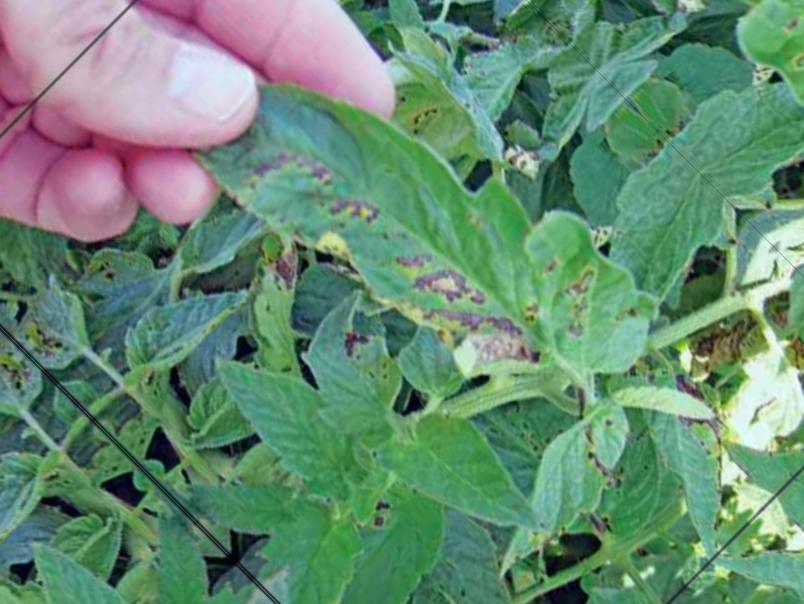Tomato Early blight leaf: (199, 0, 698, 495)
Tomato leaf: (367, 388, 566, 587), (201, 336, 361, 496), (182, 440, 315, 573)
